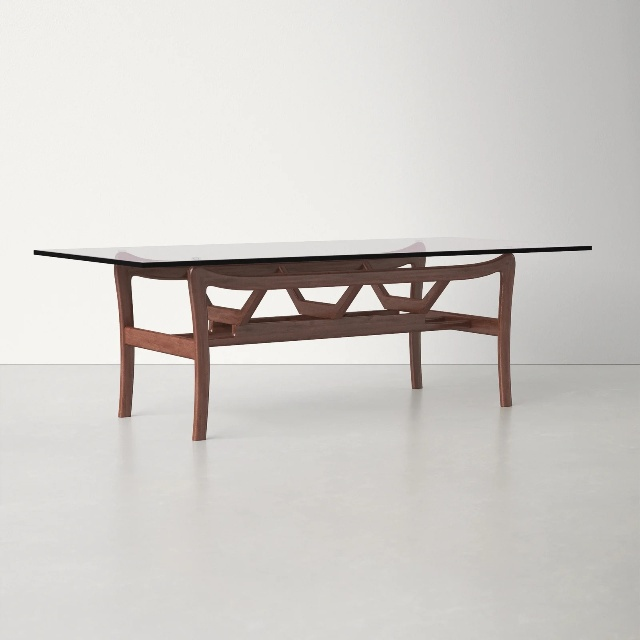obstacle: (35, 237, 591, 440)
